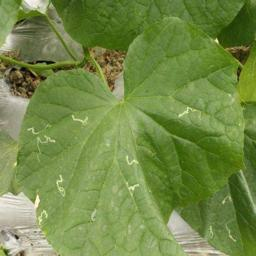liriomyza: (26, 122, 56, 163), (225, 220, 238, 243), (176, 105, 200, 117), (55, 172, 66, 198), (71, 112, 89, 127), (123, 152, 140, 166), (125, 180, 141, 194), (37, 208, 49, 226), (207, 224, 214, 241), (221, 194, 232, 204)
